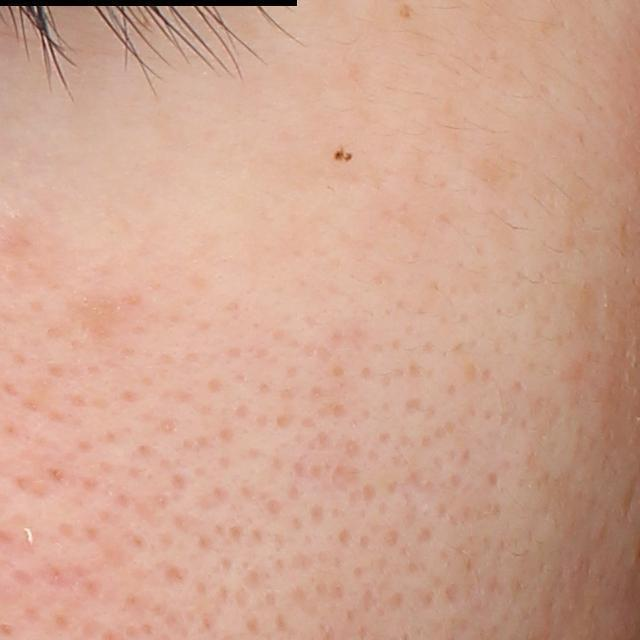melasma: (397, 2, 419, 18)
nevus: (327, 139, 360, 168)
